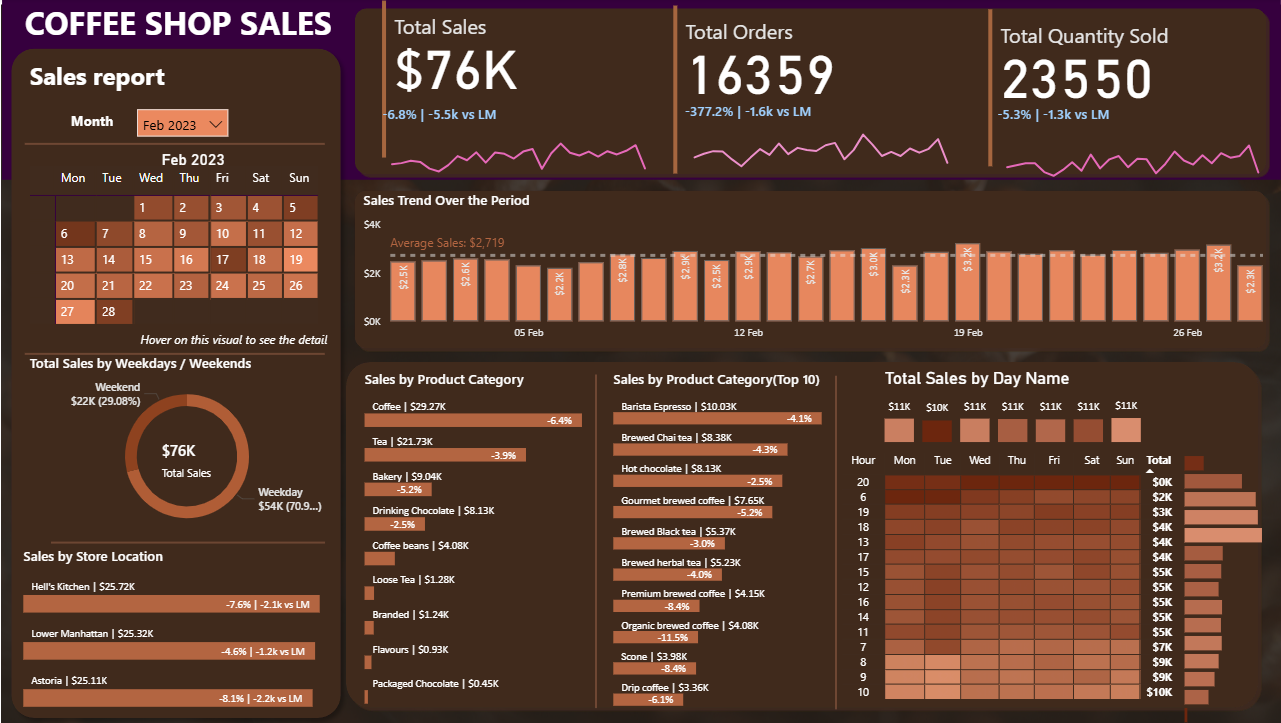

This screenshot's page, from the dashboard's own definition file:
{"tool":"powerbi","page":{"name":"Page 1","canvas":[1400,850],"ordinal":0},"visuals":[{"type":"cardVisual","fields":{"Data":["Transactions.Total Sales"]},"box":[436.9,53.1,291.2,167.5],"z":0,"group":"g1"},{"type":"cardVisual","fields":{"Data":["Transactions.Total Orders"]},"box":[727.5,58.8,291.2,178.8],"z":0,"group":"g2"},{"type":"cardVisual","fields":{"Data":["Transactions.Total Quantity Sold"]},"box":[1042.9,62.9,290,168],"z":0,"group":"g3"},{"type":"shape","box":[61.4,57.1,1278.6,180],"z":1000},{"type":"lineChart","fields":{"Y":["Transactions.Total Orders"],"Category":["Date Table.Date.Variation.Date Hierarchy.Year","Date Table.Date.Variation.Date Hierarchy.Quarter","Date Table.Date.Variation.Date Hierarchy.Month","Date Table.Date.Variation.Date Hierarchy.Day"]},"box":[739.3,159.6,282.9,84.3],"z":1000,"group":"g2"},{"type":"lineChart","fields":{"Category":["Date Table.Date Hierarchy.Date"],"Y":["Transactions.Total Sales"]},"box":[436.3,162.3,282.9,78.7],"z":1000,"group":"g1"},{"type":"lineChart","fields":{"Category":["Date Table.Date.Variation.Date Hierarchy.Year","Date Table.Date.Variation.Date Hierarchy.Quarter","Date Table.Date.Variation.Date Hierarchy.Month","Date Table.Date.Variation.Date Hierarchy.Day"],"Y":["Transactions.Total Quantity Sold"]},"box":[1051.6,162.8,281.3,78.7],"z":1000,"group":"g3"},{"type":"shape","box":[61.2,97.5,347.5,687.5],"z":2000},{"type":"textbox","box":[83.8,112.5,300,52.5],"z":2500},{"type":"shape","box":[408.6,61.4,921.4,175.7],"z":3000},{"type":"textbox","box":[78.8,53.8,338.8,58.8],"z":4000},{"type":"slicer","fields":{"Values":["Date Table.Month Year"]},"box":[191.2,162.5,101.2,37.5],"z":5000},{"type":"group","id":"g1","title":"Group 1","box":[436.3,53.1,291.9,187.9],"z":6000},{"type":"group","id":"g2","title":"Group 1","box":[727.5,58.8,293.8,185],"z":7000},{"type":"group","id":"g3","title":"Group 1","box":[1042.9,62.9,290,178.6],"z":8000},{"type":"actionButton","box":[0,0,100,40],"z":9000},{"type":"pivotTable","fields":{"Rows":["Date Table.Weak Number"],"Columns":["Date Table.Day Name"],"Values":["Min(Date Table.Day Number)"]},"box":[84.3,218.6,315.7,208.6],"z":10000},{"type":"cardVisual","fields":{"Data":["Min(Date Table.Month Year)"]},"box":[204,195,109,36],"z":11000},{"type":"cardVisual","fields":{"Data":["Transactions.Foot Note"]},"box":[183.1,375.3,227.3,36.4],"z":12000},{"type":"shape","box":[83.8,396.2,300,31.2],"z":13000},{"type":"shape","box":[83.8,186.2,300,31.2],"z":14000},{"type":"donutChart","fields":{"Category":["Date Table.Weekdays / Weekends"],"Y":["Transactions.Total Sales"]},"box":[83.8,411.2,325,188.8],"z":15000},{"type":"cardVisual","fields":{"Data":["Transactions.Total Sales"]},"box":[204.3,487.1,92.9,61.4],"z":16000},{"type":"shape","box":[110.4,584.4,274,31.2],"z":17000},{"type":"clusteredBarChart","title":"Sales by Store Location","fields":{"Category":["Transactions.store_location"],"Y":["Transactions.Placeholder","Transactions.Total Sales"]},"box":[77.5,605,332.5,167.5],"z":18000},{"type":"shape","box":[408.8,243.8,921.2,167.5],"z":19000},{"type":"columnChart","title":"Sales Trend Over the Period ","fields":{"Category":["Transactions.transaction_date"],"Y":["Transactions.Total Sales"]},"box":[417.5,248.8,911.2,158.8],"z":20000},{"type":"shape","box":[400,414.4,922.2,355.6],"z":21000},{"type":"clusteredBarChart","title":"Sales by Product Category ","fields":{"Y":["Transactions.Placeholder","Transactions.Total Sales"],"Category":["Transactions.product_category"]},"box":[418.6,427.1,250,340],"z":22000},{"type":"shape","box":[641.2,432.5,27.5,333.8],"z":23000},{"type":"clusteredBarChart","title":"Sales by Product Category(Top 10)","fields":{"Y":["Transactions.Placeholder","Transactions.Total Sales"],"Category":["Transactions.product_type"]},"box":[668,428,250,342],"z":24000},{"type":"shape","box":[881.2,433.8,27.5,333.8],"z":25000},{"type":"pivotTable","fields":{"Rows":["Transactions.Hour"],"Columns":["Date Table.Day Name"],"Values":["Transactions.Total Sales"]},"box":[895.7,505.7,345.7,265.7],"z":26000},{"type":"barChart","fields":{"Category":["Transactions.Hour"],"Y":["Transactions.Total Sales"]},"box":[1238.6,501.4,90,284.3],"z":27000},{"type":"clusteredColumnChart","fields":{"Y":["Transactions.Total Sales"],"Category":["Date Table.Day Name"]},"box":[938.6,425.7,267.1,80],"z":28000},{"type":"textbox","box":[125,165,61,30],"z":29000}]}

Visuals, with their boxes on the page's 1400x850 design canvas (x1, y1, x2, y2). These are canvas units, not pixel positions in the 1281x723 screenshot, which may show the page scaled, cropped or inside an application window:
cardVisual - Transactions.Total Sales: {"left": 437, "top": 53, "right": 728, "bottom": 221}
cardVisual - Transactions.Total Orders: {"left": 728, "top": 59, "right": 1019, "bottom": 238}
cardVisual - Transactions.Total Quantity Sold: {"left": 1043, "top": 63, "right": 1333, "bottom": 231}
shape: {"left": 61, "top": 57, "right": 1340, "bottom": 237}
lineChart - Transactions.Total Orders x Date Table.Date.Variation.Date Hierarchy.Year: {"left": 739, "top": 160, "right": 1022, "bottom": 244}
lineChart - Date Table.Date Hierarchy.Date x Transactions.Total Sales: {"left": 436, "top": 162, "right": 719, "bottom": 241}
lineChart - Date Table.Date.Variation.Date Hierarchy.Year x Date Table.Date.Variation.Date Hierarchy.Quarter: {"left": 1052, "top": 163, "right": 1333, "bottom": 242}
shape: {"left": 61, "top": 98, "right": 409, "bottom": 785}
textbox: {"left": 84, "top": 112, "right": 384, "bottom": 165}
shape: {"left": 409, "top": 61, "right": 1330, "bottom": 237}
textbox: {"left": 79, "top": 54, "right": 418, "bottom": 113}
slicer - Date Table.Month Year: {"left": 191, "top": 162, "right": 292, "bottom": 200}
"Group 1" group: {"left": 436, "top": 53, "right": 728, "bottom": 241}
"Group 1" group: {"left": 728, "top": 59, "right": 1021, "bottom": 244}
"Group 1" group: {"left": 1043, "top": 63, "right": 1333, "bottom": 242}
actionButton: {"left": 0, "top": 0, "right": 100, "bottom": 40}
pivotTable - Date Table.Weak Number x Date Table.Day Name: {"left": 84, "top": 219, "right": 400, "bottom": 427}
cardVisual - Min(Date Table.Month Year): {"left": 204, "top": 195, "right": 313, "bottom": 231}
cardVisual - Transactions.Foot Note: {"left": 183, "top": 375, "right": 410, "bottom": 412}
shape: {"left": 84, "top": 396, "right": 384, "bottom": 427}
shape: {"left": 84, "top": 186, "right": 384, "bottom": 217}
donutChart - Date Table.Weekdays / Weekends x Transactions.Total Sales: {"left": 84, "top": 411, "right": 409, "bottom": 600}
cardVisual - Transactions.Total Sales: {"left": 204, "top": 487, "right": 297, "bottom": 548}
shape: {"left": 110, "top": 584, "right": 384, "bottom": 616}
"Sales by Store Location" clusteredBarChart: {"left": 78, "top": 605, "right": 410, "bottom": 772}
shape: {"left": 409, "top": 244, "right": 1330, "bottom": 411}
"Sales Trend Over the Period " columnChart: {"left": 418, "top": 249, "right": 1329, "bottom": 408}
shape: {"left": 400, "top": 414, "right": 1322, "bottom": 770}
"Sales by Product Category " clusteredBarChart: {"left": 419, "top": 427, "right": 669, "bottom": 767}
shape: {"left": 641, "top": 432, "right": 669, "bottom": 766}
"Sales by Product Category(Top 10)" clusteredBarChart: {"left": 668, "top": 428, "right": 918, "bottom": 770}
shape: {"left": 881, "top": 434, "right": 909, "bottom": 768}
pivotTable - Transactions.Hour x Date Table.Day Name: {"left": 896, "top": 506, "right": 1241, "bottom": 771}
barChart - Transactions.Hour x Transactions.Total Sales: {"left": 1239, "top": 501, "right": 1329, "bottom": 786}
clusteredColumnChart - Transactions.Total Sales x Date Table.Day Name: {"left": 939, "top": 426, "right": 1206, "bottom": 506}
textbox: {"left": 125, "top": 165, "right": 186, "bottom": 195}
